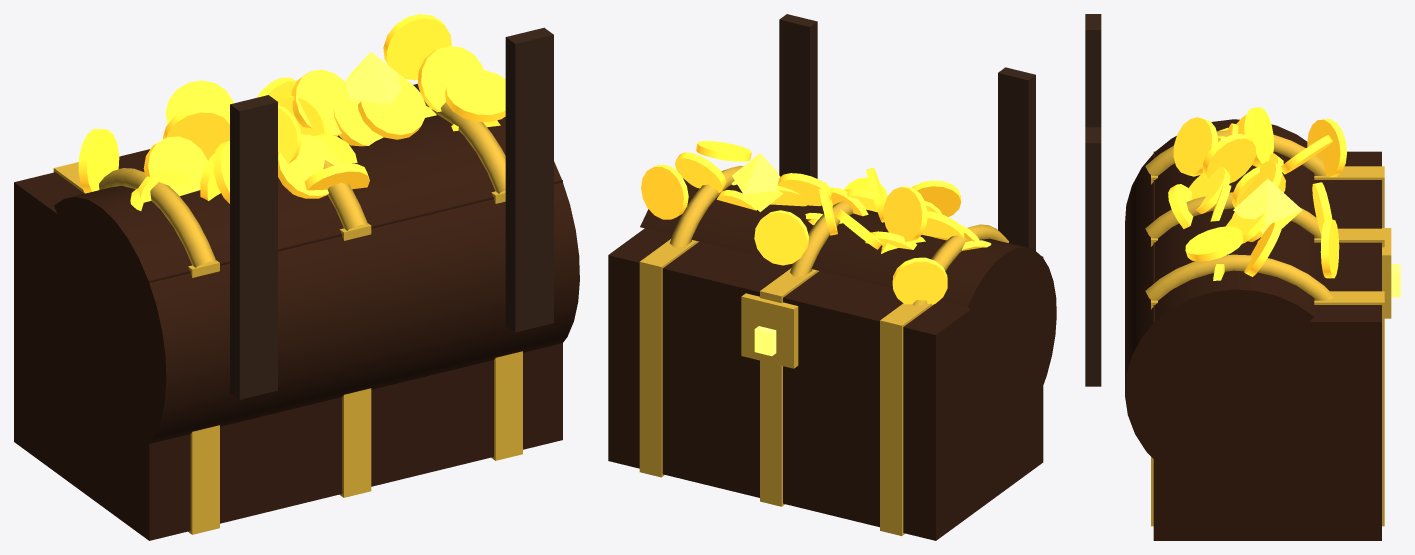
File: back_eqtz4.glb
3 views of the same model, side by side, from view 1: azimuth 30°, elevation 25°; view 2: azimuth 150°, elevation 25°; view 3: azimuth 270°, elevation 25° (orthographic). The views are drawn at different scales.
Bounding box in the file's own units: 1.5 × 1.56 × 1.17.
